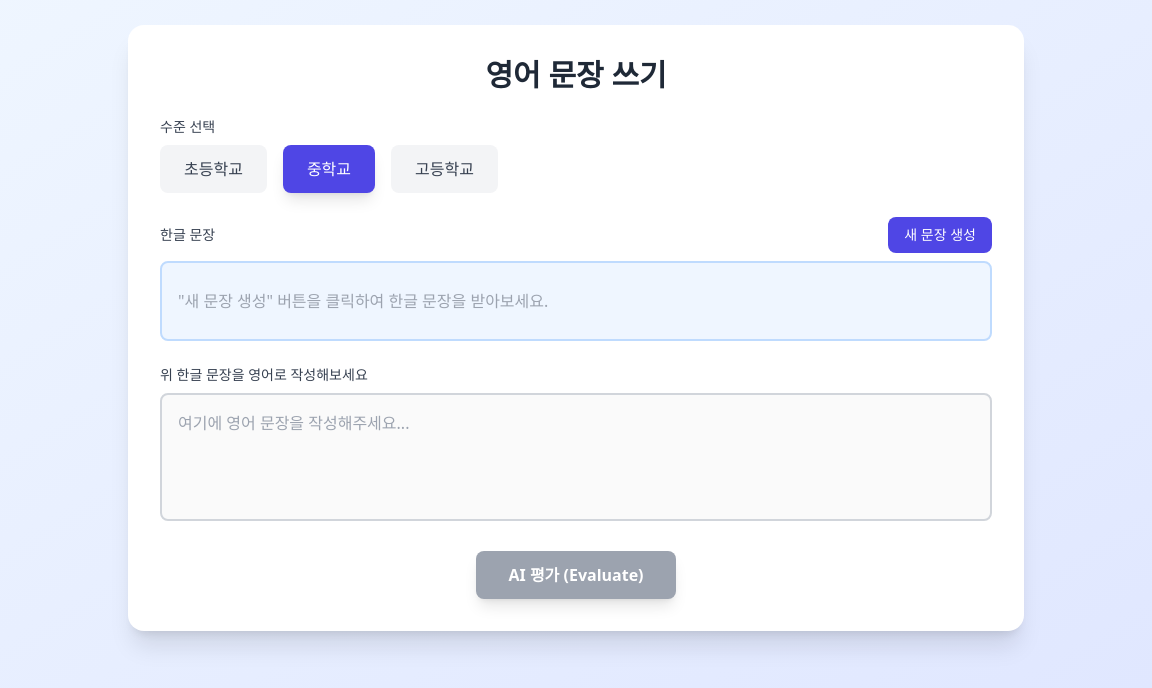
Test: SentenceWritingPage › 평가 기능 › 평가 결과에 오류가 있으면 오류 목록이 표시된다
Step 1. Click the button "새 문장 생성" → point(940, 235), box [888,217,992,253]
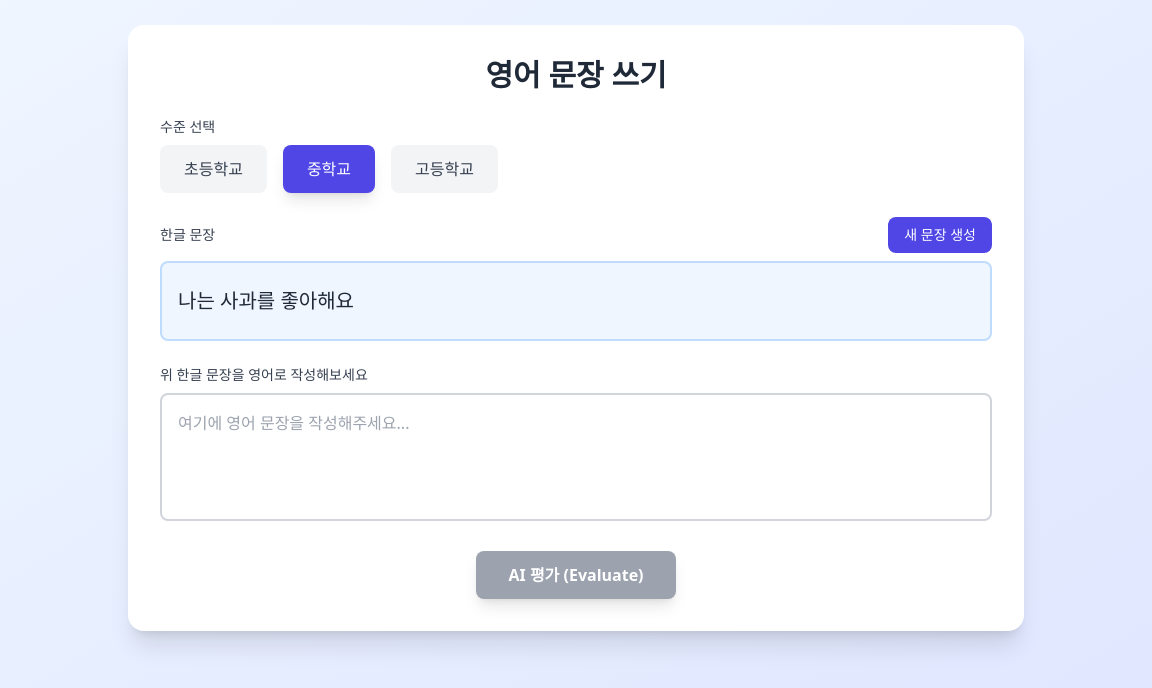
Now the text "나는 사과를 좋아해요" is shown, box [178,287,354,315]
Step 2. Type "I like apple" into the text box with placeholder "여기에 영어 문장을 작성해주세요..." → point(576, 457), box [160,393,992,521]
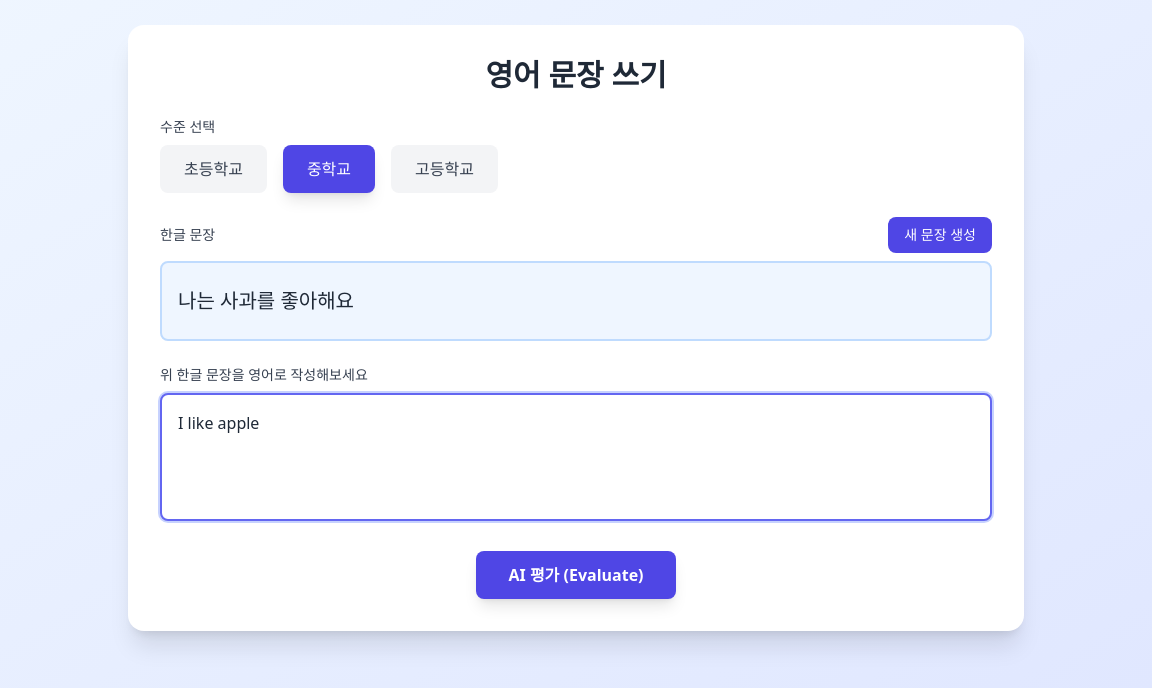
Step 3. Click the button "AI 평가 (Evaluate)" → point(576, 575), box [476,551,676,599]
(page scrolled)
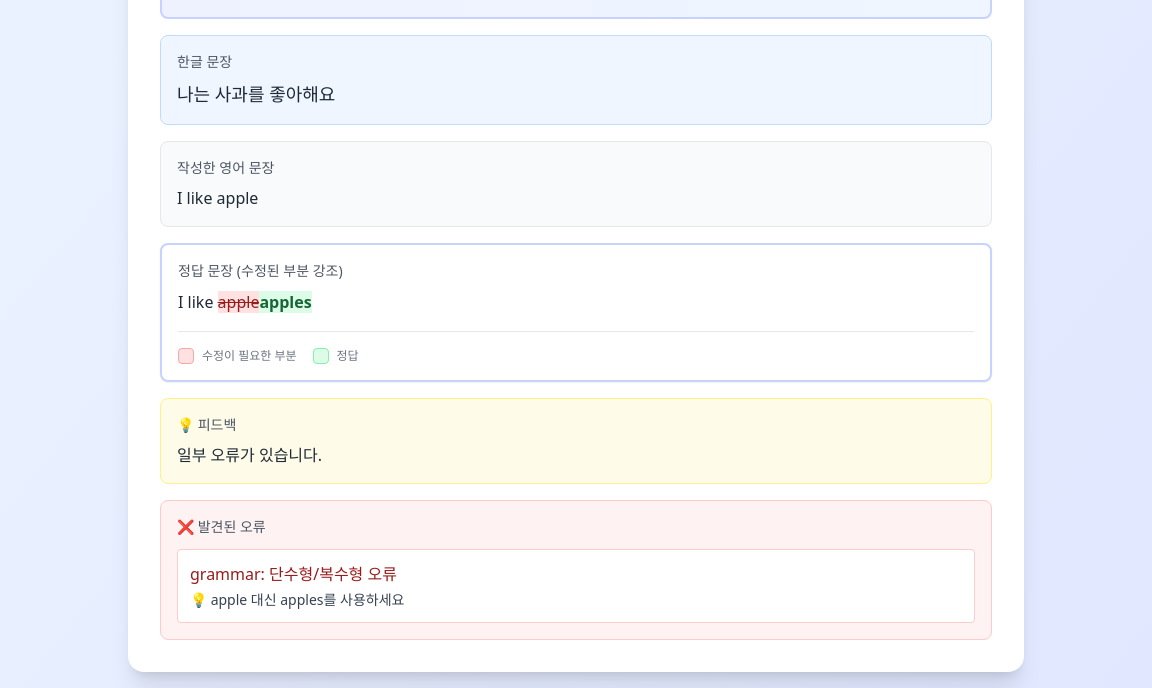
Now the heading "❌ 발견된 오류" is shown, box [177,517,266,536]
Now the text "grammar: 단수형/복수형 오류" is shown, box [190,563,397,585]
Now the text "💡 apple 대신 apples를 사용하세요" is shown, box [190,590,404,609]
